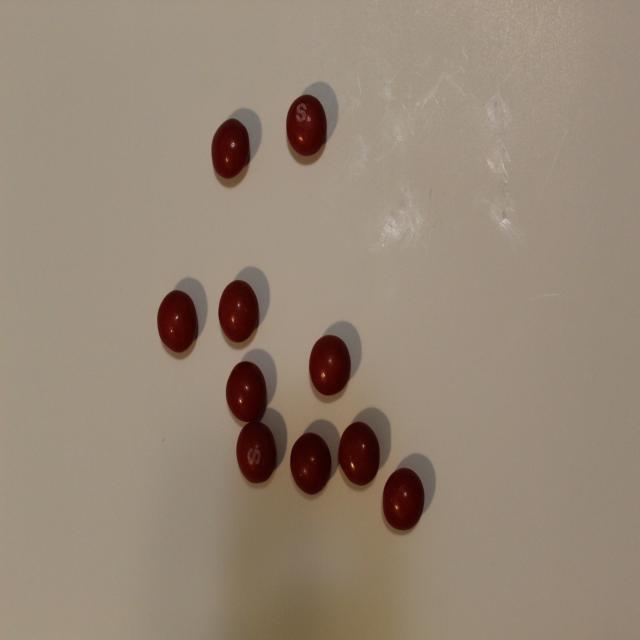smartie: (383, 468, 425, 531), (339, 422, 380, 486), (290, 433, 332, 495), (218, 279, 259, 342), (309, 335, 351, 396), (225, 361, 267, 421), (286, 94, 327, 155), (157, 290, 197, 352), (236, 421, 276, 483), (211, 117, 250, 177)
